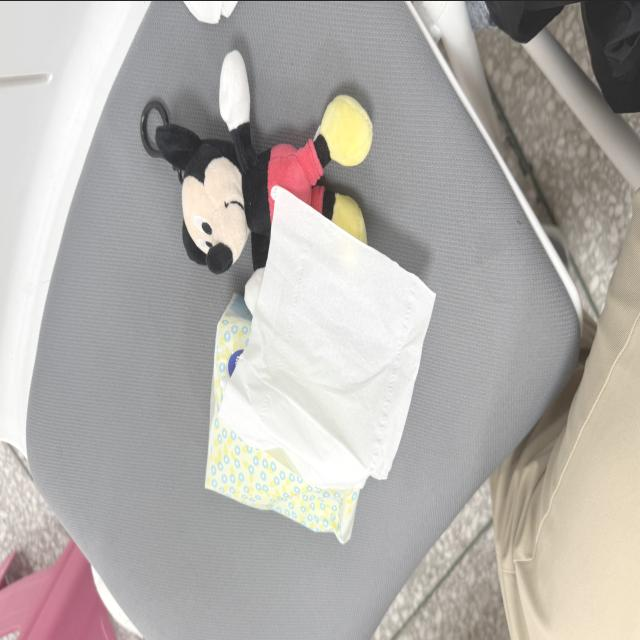mickey: (156, 51, 372, 272)
tissue: (205, 188, 431, 536)
